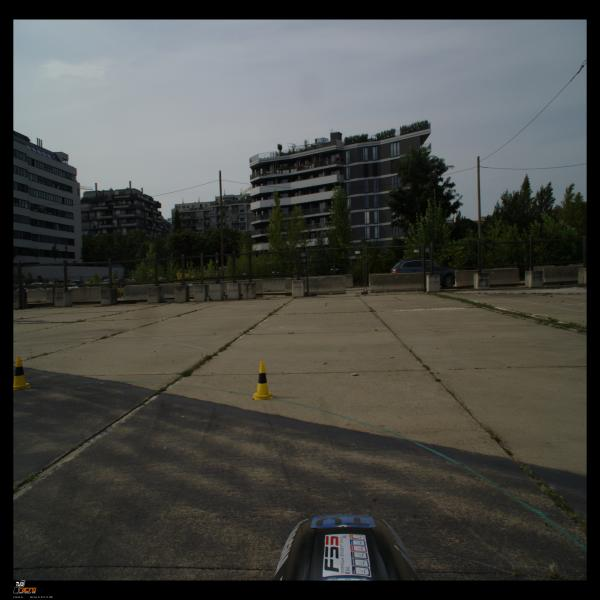yellow_cone: (253, 361, 273, 400), (13, 357, 31, 390)
